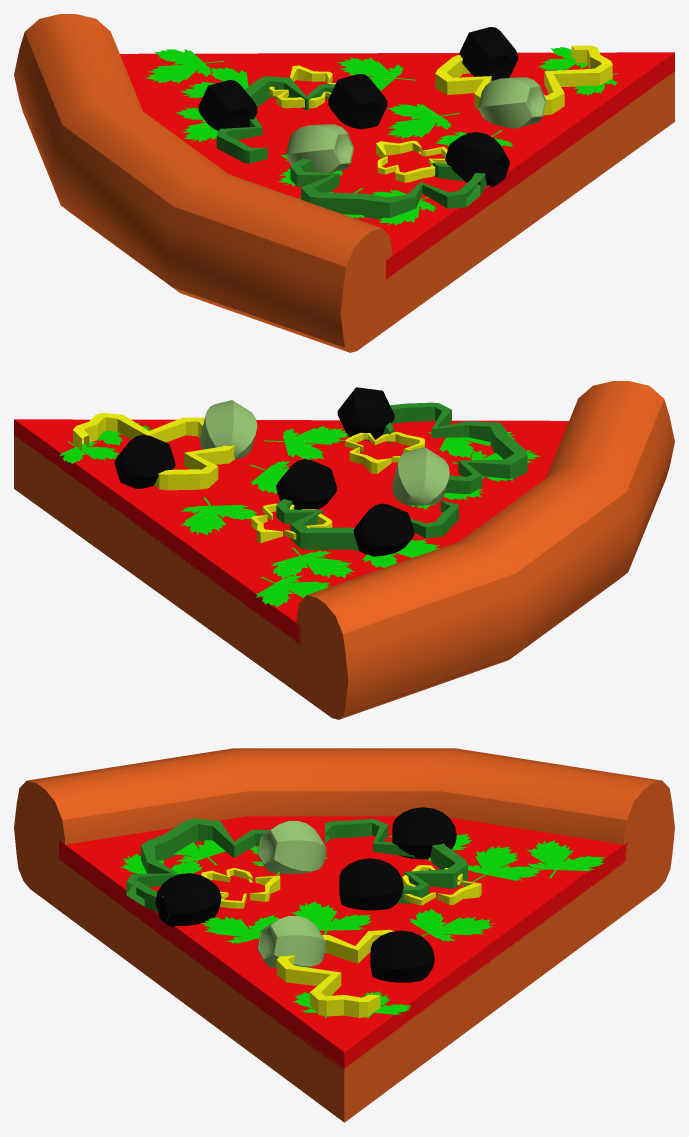
Rendered from Pizza 2.fbx.
The picture shows the model from 3 angles, top to bottom: view 1: azimuth 30°, elevation 25°; view 2: azimuth 150°, elevation 25°; view 3: azimuth 270°, elevation 25°; orthographic projection.
Parts seen in each view (by area): view 1: Pizza 2; view 2: Pizza 2; view 3: Pizza 2.
Part boxes in pixels (x1,y1,x2,y2): Pizza 2: (14,14,674,352); Pizza 2: (14,381,674,719); Pizza 2: (14,748,674,1122).
Size of the model in its own units: 1.71 by 1.71 by 0.3196.
